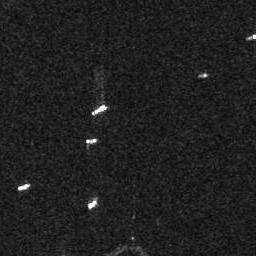ship: (90, 102, 108, 115), (86, 198, 99, 210), (17, 182, 31, 190), (85, 137, 98, 144)
